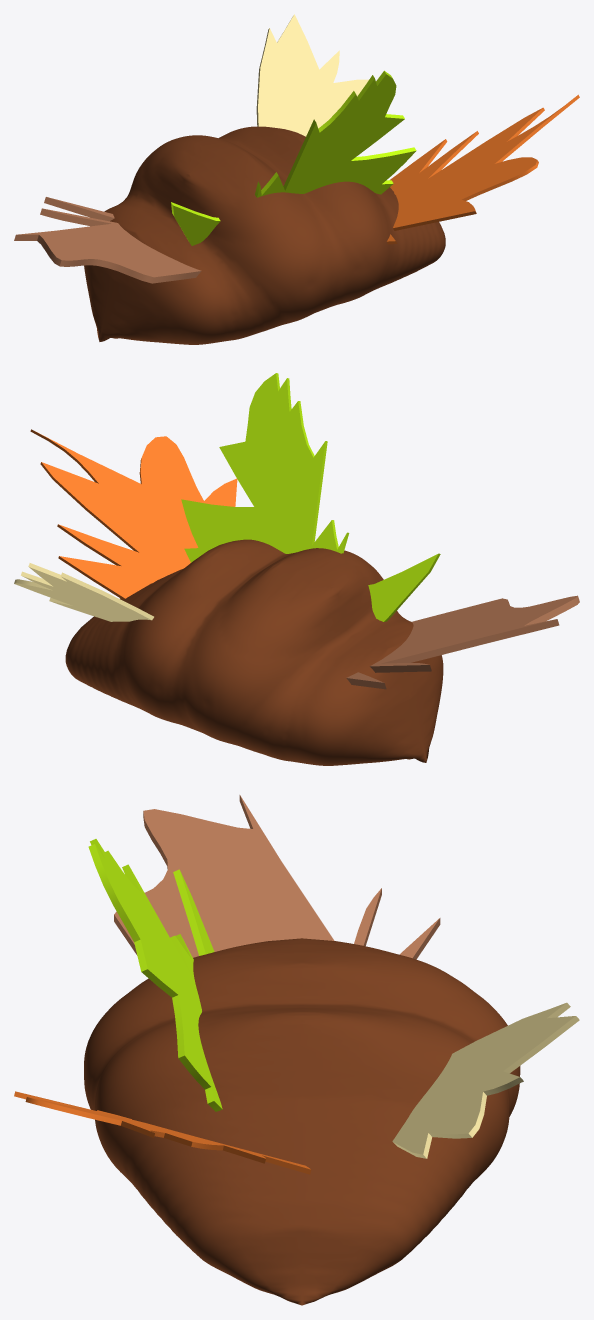
The model's file is compost.fbx.
The picture shows the model from 3 angles, top to bottom: view 1: azimuth 30°, elevation 25°; view 2: azimuth 150°, elevation 25°; view 3: azimuth 270°, elevation 25°; orthographic projection. The views are drawn at different scales.
Parts seen in each view (by area): view 1: root (×5); view 2: root (×5); view 3: root (×5).
Boxes of the visible parts, left/top/right/bottom form: root (×5): left=14, top=14, right=579, bottom=344; root (×5): left=14, top=373, right=579, bottom=765; root (×5): left=14, top=795, right=579, bottom=1305.
Bounding box in the file's own units: 0.4336 × 0.209 × 0.2683.
